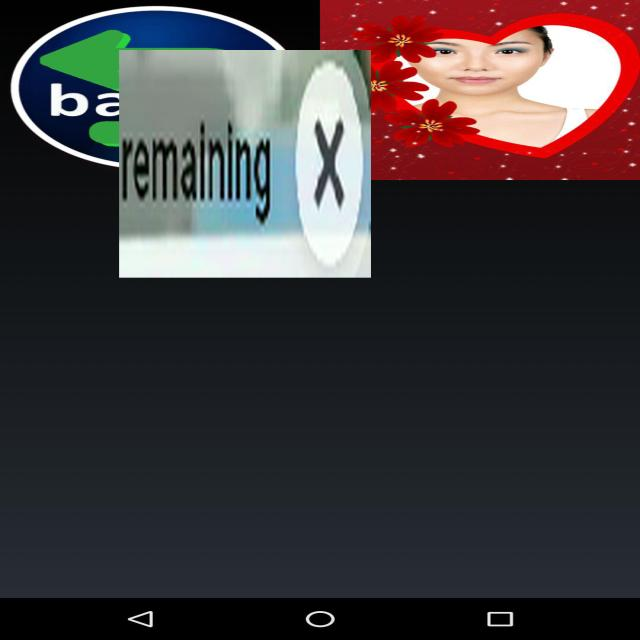misdirection: (119, 50, 371, 278)
